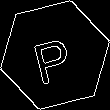P_N: (31, 26, 79, 84)
